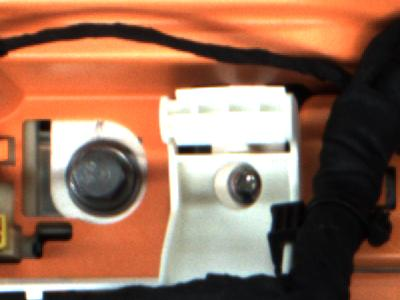nut_b: (57, 135, 144, 218)
